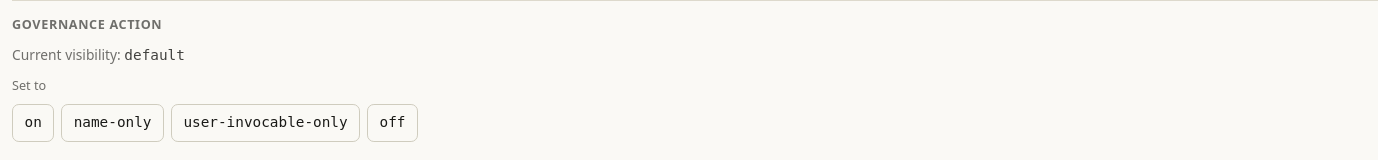
Test: SkillVisibilityControl › error: an engine error diagnostic on preview surfaces the message, no Confirm
This screenshot has width=1378, height=160.
Click the button "off" at (392, 123), box x1=367 y1=104 x2=418 y2=142
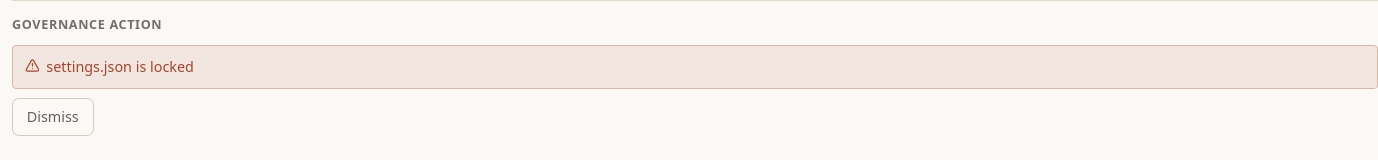
Expected: the text "settings.json is locked" is shown, x1=46 y1=56 x2=194 y2=79
